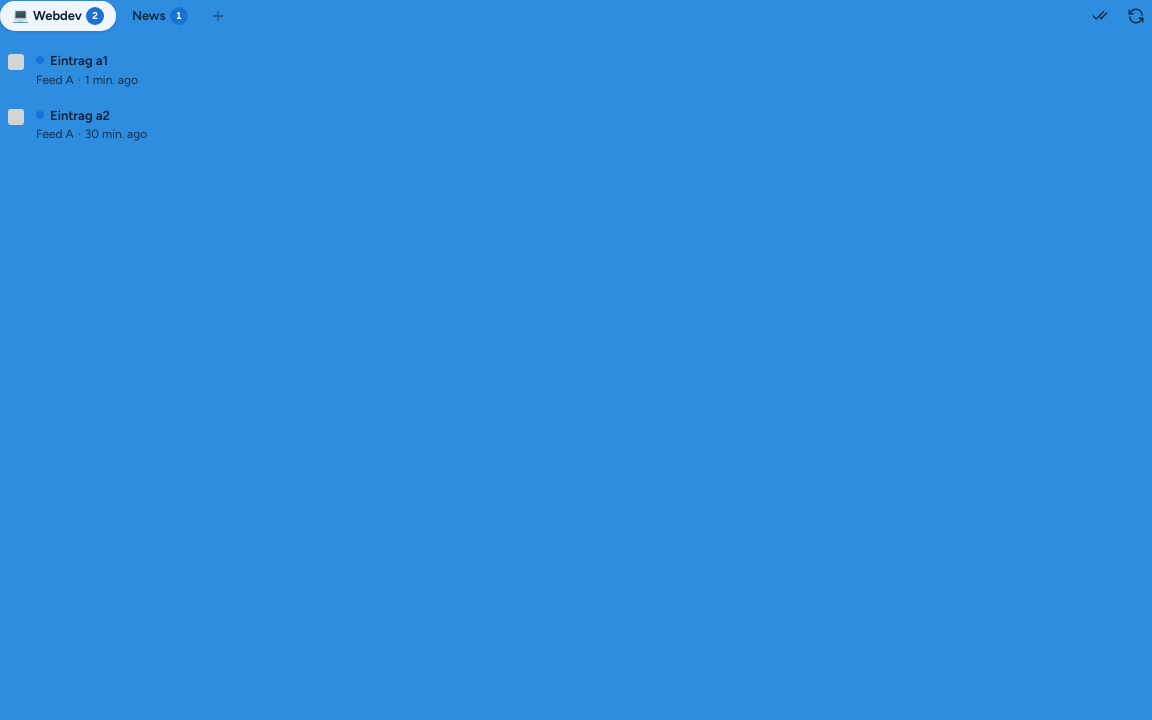
Test: Kategorien im RSS-Widget › legt eine Kategorie an und wählt sie aus
The image size is (1152, 720).
Click the button named "Add category" at [218, 16], box [204,2,232,30]
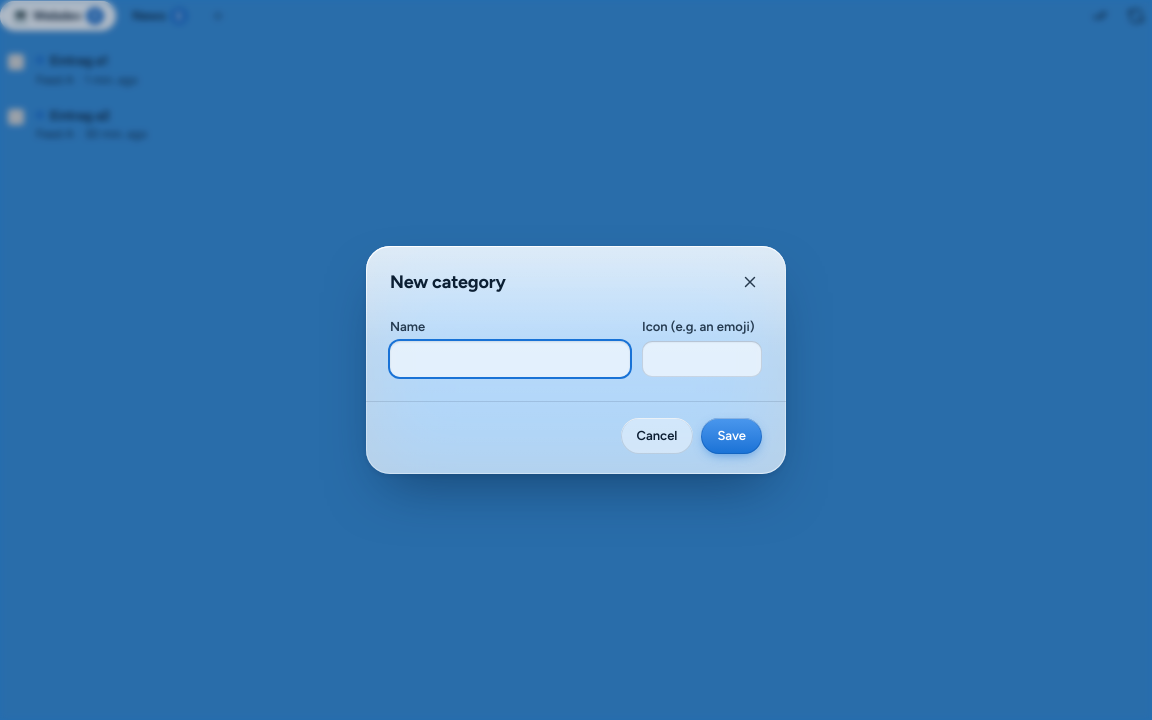
Type "Gaming" into the field labelled "Name" at [510, 359], box [390,341,630,377]
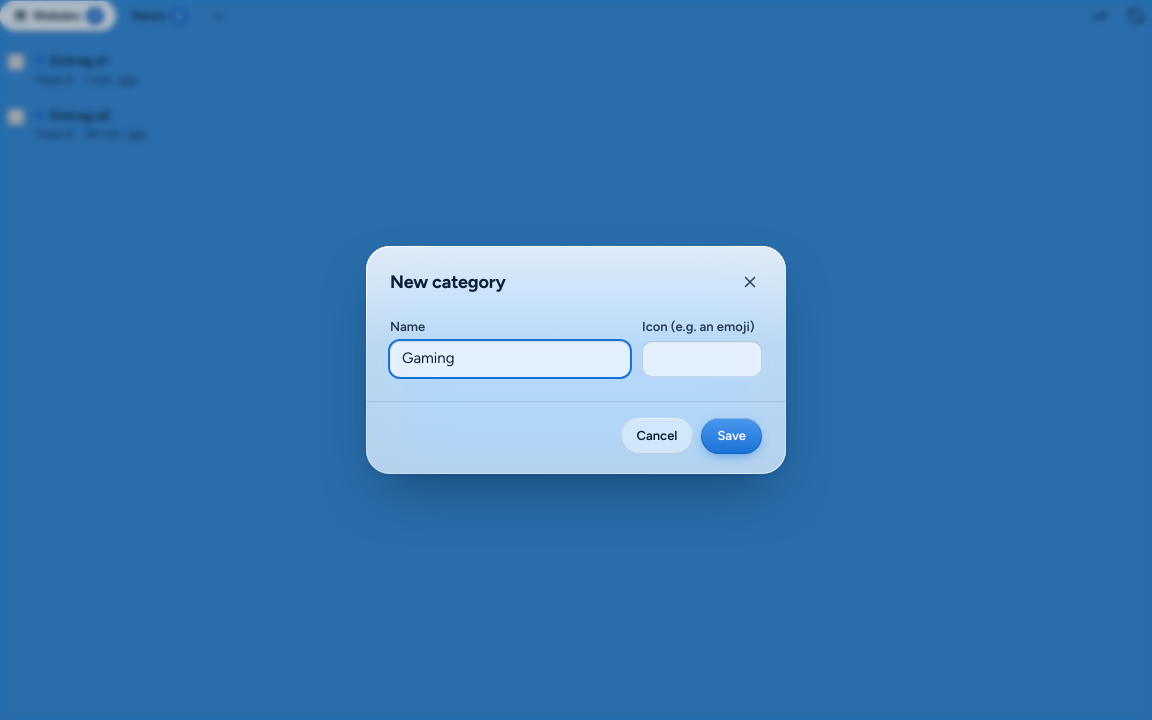
Submit the form labelled "Name", box [390,318,762,377]
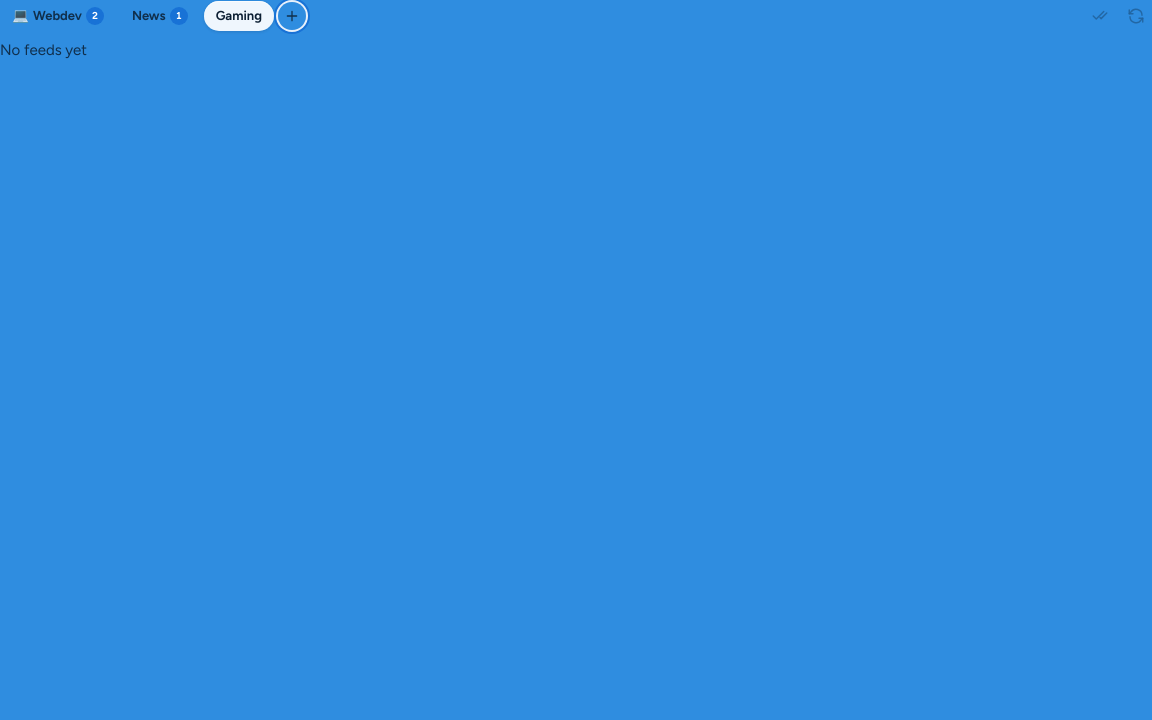
Expected: the text "Gaming" is shown, [216,7,262,25]
Expected: the text "No feeds yet" is shown, [0,40,87,62]
